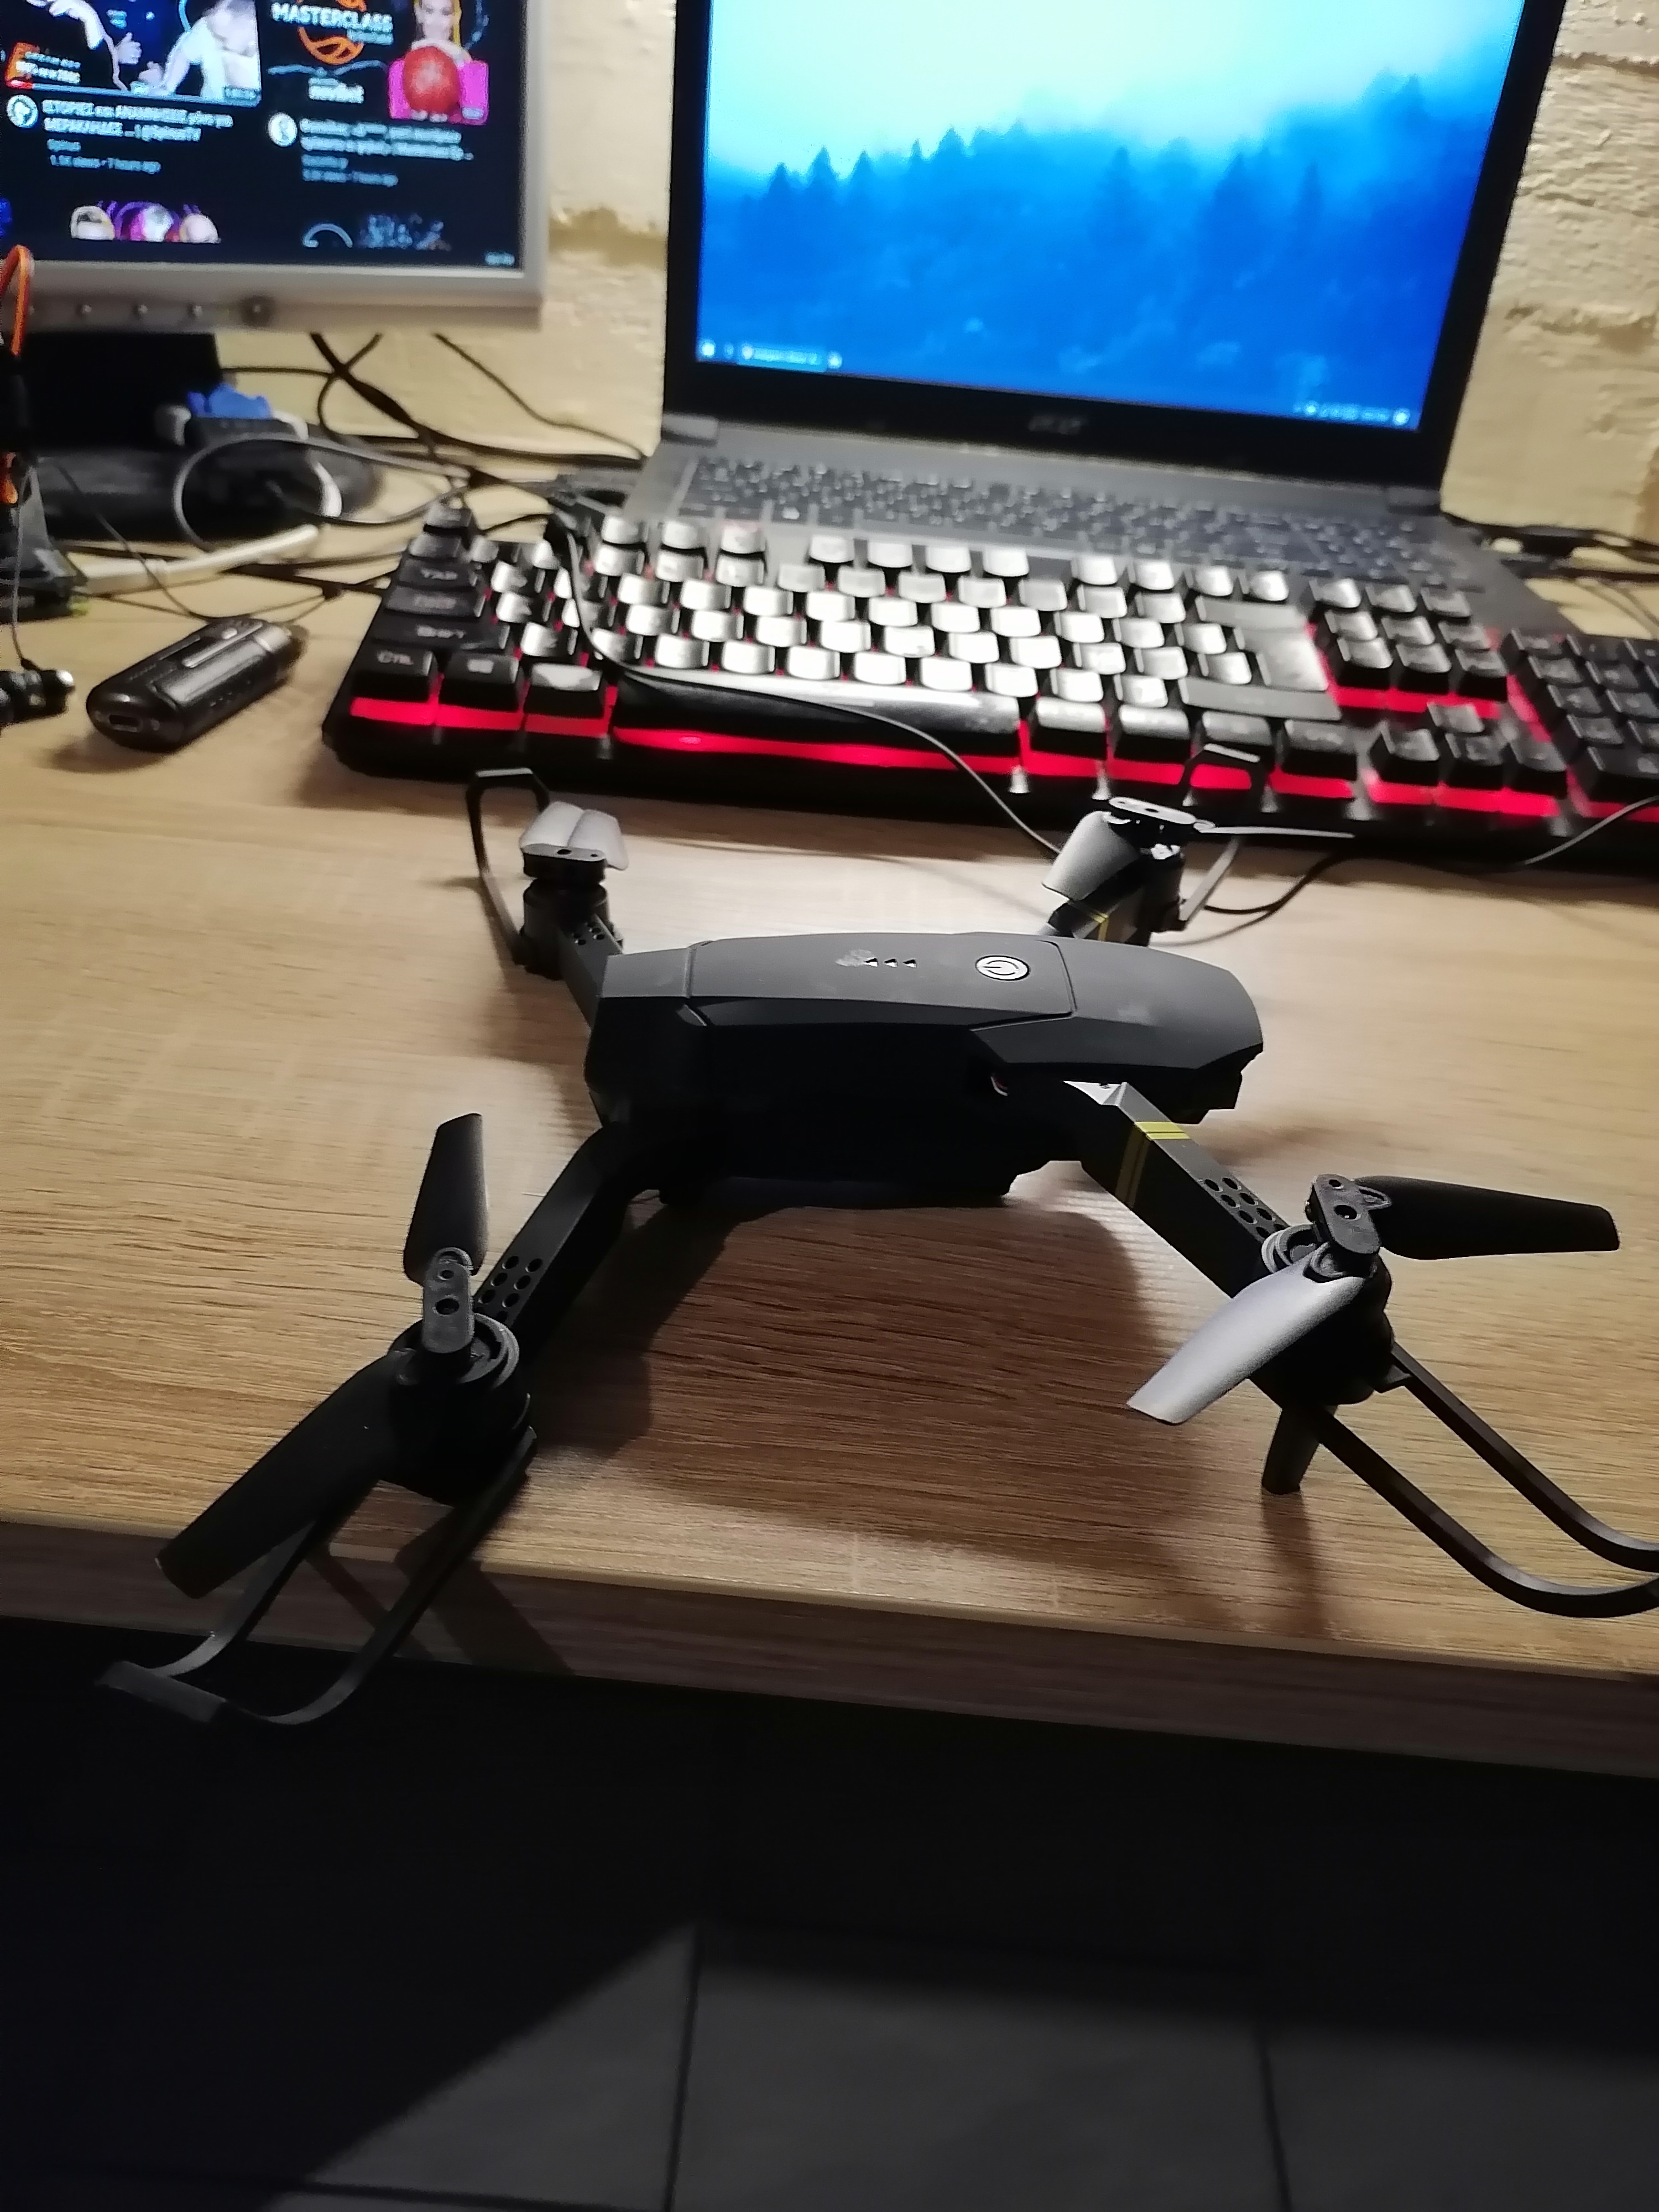drone: (378, 773, 1647, 1724)
